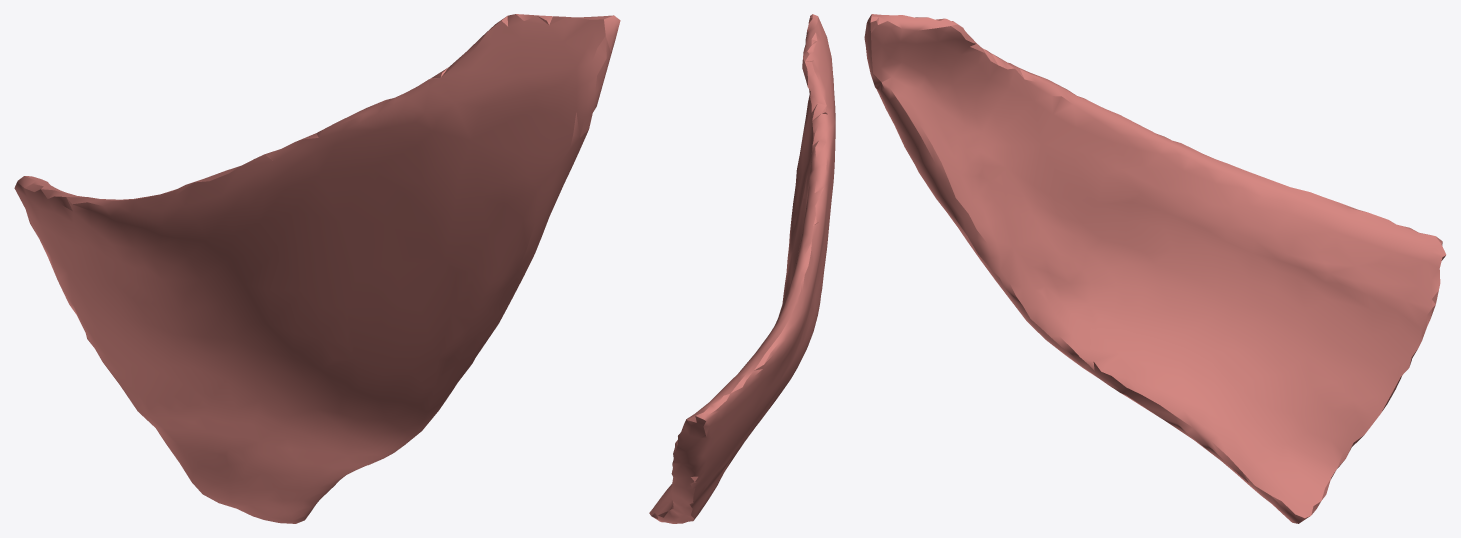
Rendered from fma46829_mm1120m.glb.
3 renders of one model, left to right at view 1: azimuth 30°, elevation 25°; view 2: azimuth 150°, elevation 25°; view 3: azimuth 270°, elevation 25°, orthographic. The views are drawn at different scales.
Parts seen in each view (by area): view 1: FMA46829_MM1120M; view 2: FMA46829_MM1120M; view 3: FMA46829_MM1120M.
Part boxes in pixels (box(x1,y1,x2,y2)): FMA46829_MM1120M: box(14, 14, 620, 523); FMA46829_MM1120M: box(649, 14, 835, 523); FMA46829_MM1120M: box(864, 14, 1446, 523).
Bounding box in the file's own units: 0.00795 × 0.0235 × 0.0241.
